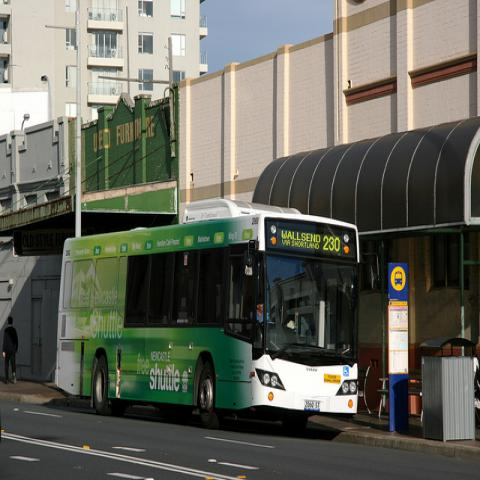bus: (51, 202, 358, 417)
